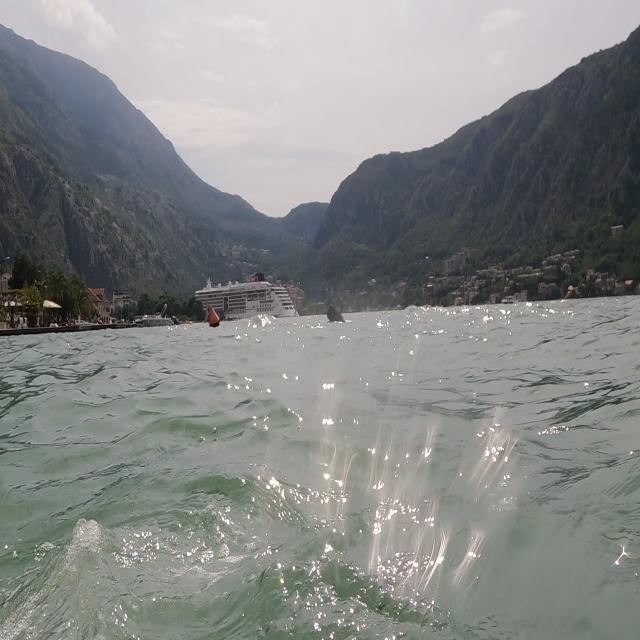boat: (193, 268, 300, 326)
buoy: (323, 300, 351, 328), (206, 306, 223, 331)
